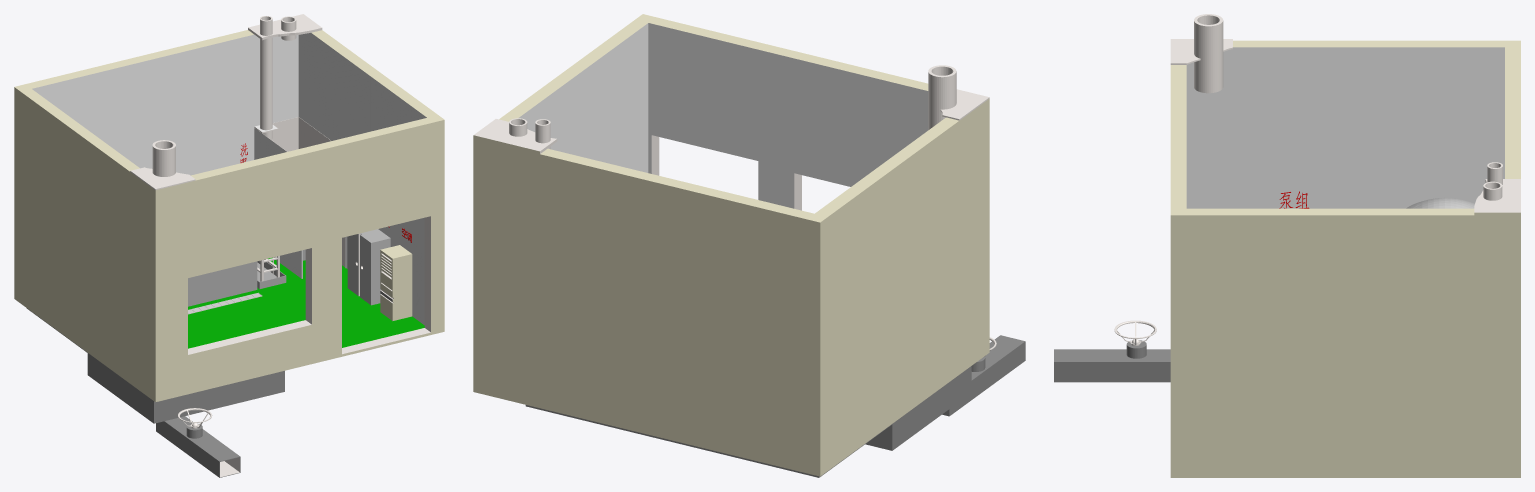
The picture shows the model from 3 angles, left to right: view 1: azimuth 30°, elevation 25°; view 2: azimuth 150°, elevation 25°; view 3: azimuth 270°, elevation 25°; orthographic projection. The views are drawn at different scales.
Visible parts, largest first — view 1: Node9, Node3, Node2; view 2: Node9, Node3, Node2; view 3: Node9, Node3, Node2.
Boxes of the visible parts, x1,y1,x2,y2 form: Node9: (14,14,444,477); Node3: (152,140,175,176); Node2: (130,167,195,190); Node9: (473,14,1025,477); Node3: (928,65,956,129); Node2: (940,89,989,120); Node9: (1054,40,1520,477); Node3: (1194,14,1223,93); Node2: (1170,39,1232,64).
Bounding box in the file's own units: 1300 × 1235 × 1466.
